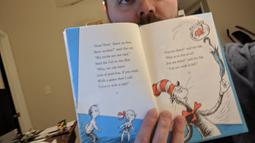text block: (89, 38, 143, 88), (160, 43, 208, 69)
